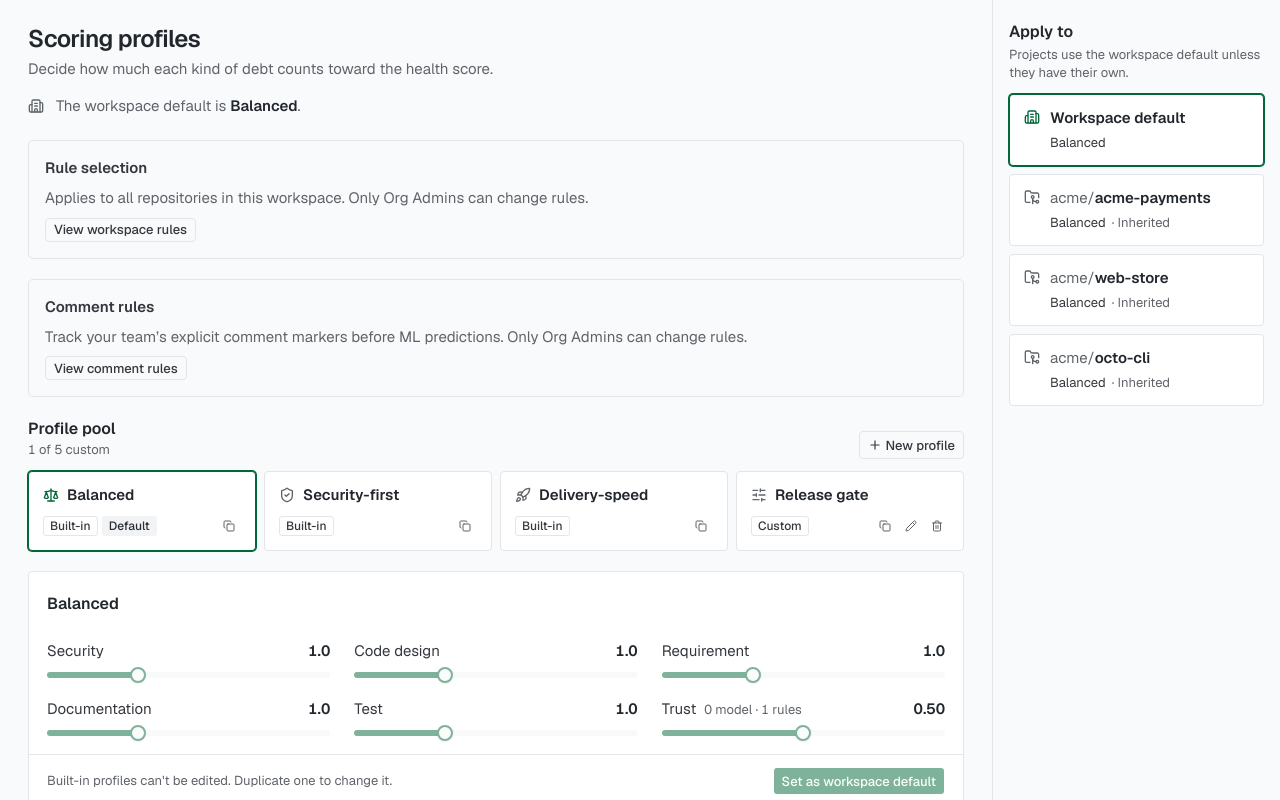
Test: Save sends only what changed, and Discard puts the stored values back
Click the button "Release gate" at (850, 495), box [751, 484, 949, 506]
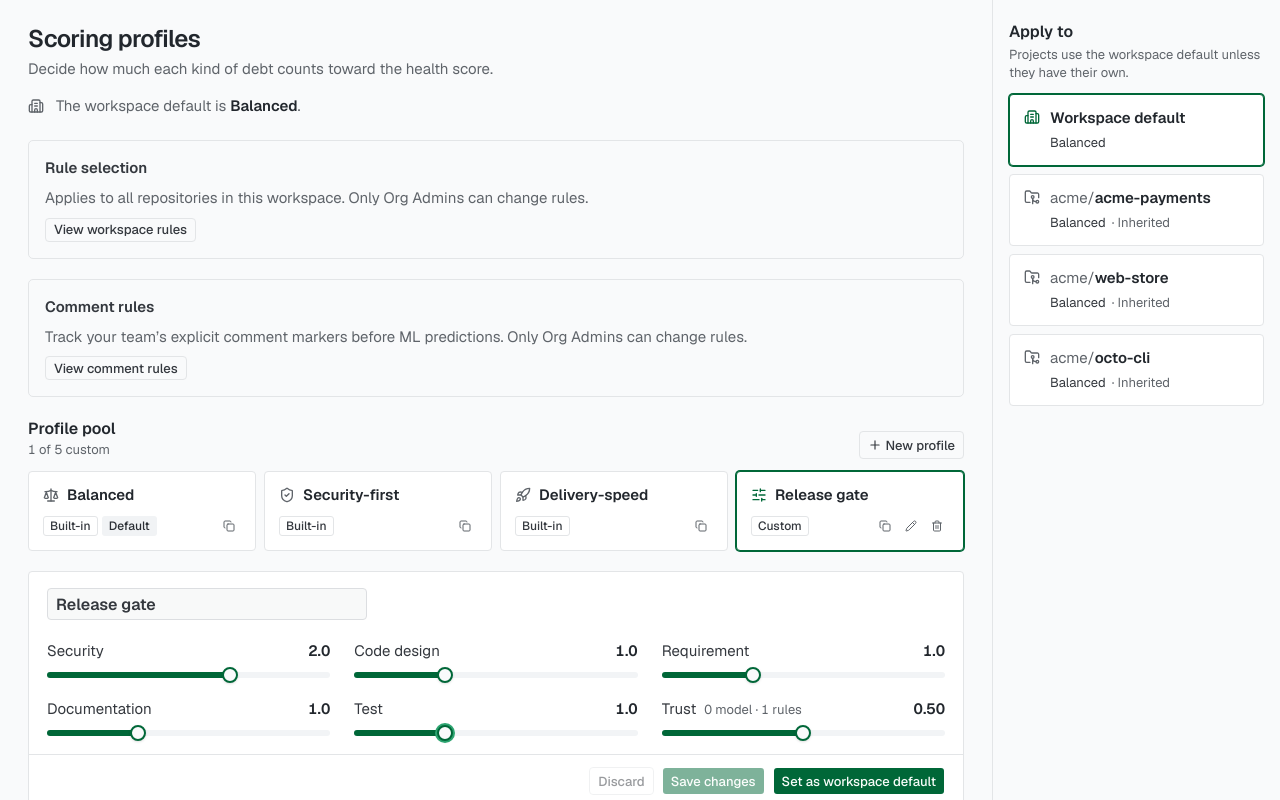
Press Arrowright
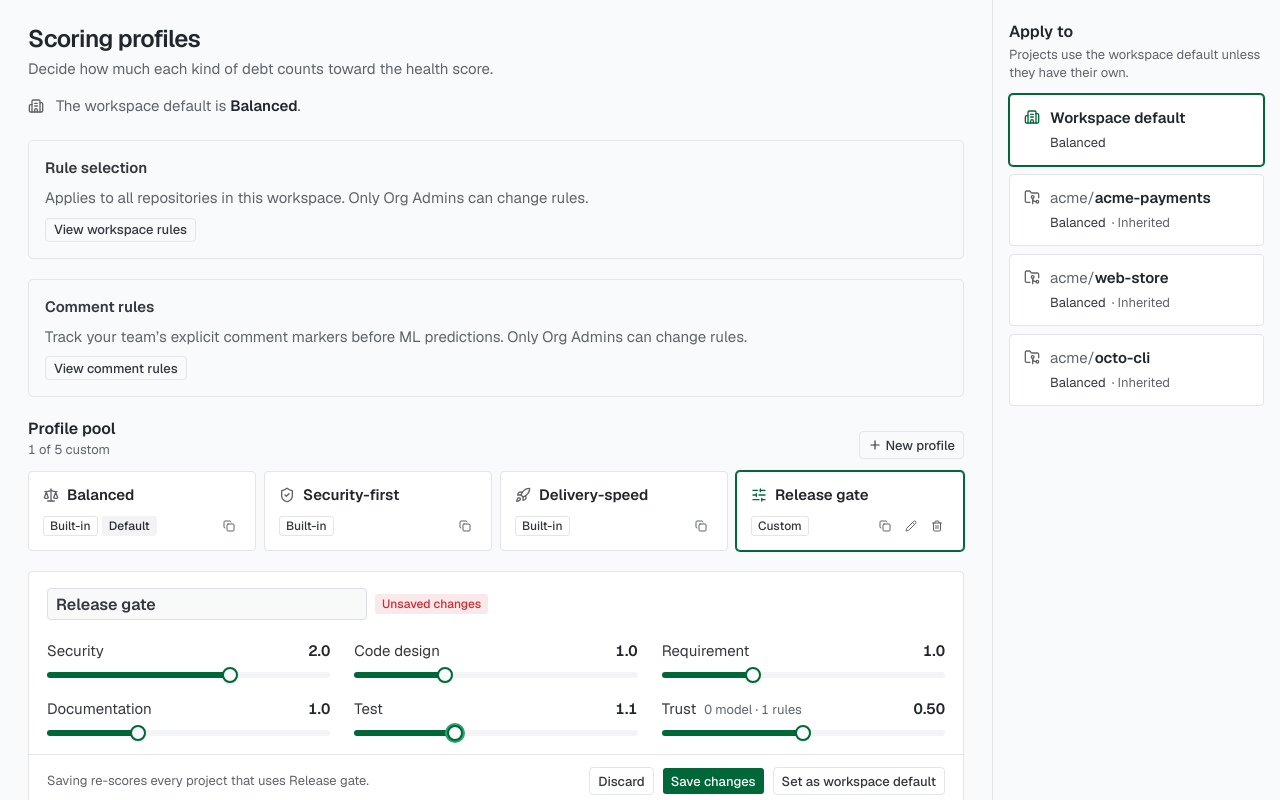
Click the button "Save changes" at (713, 781), box [662, 767, 764, 795]
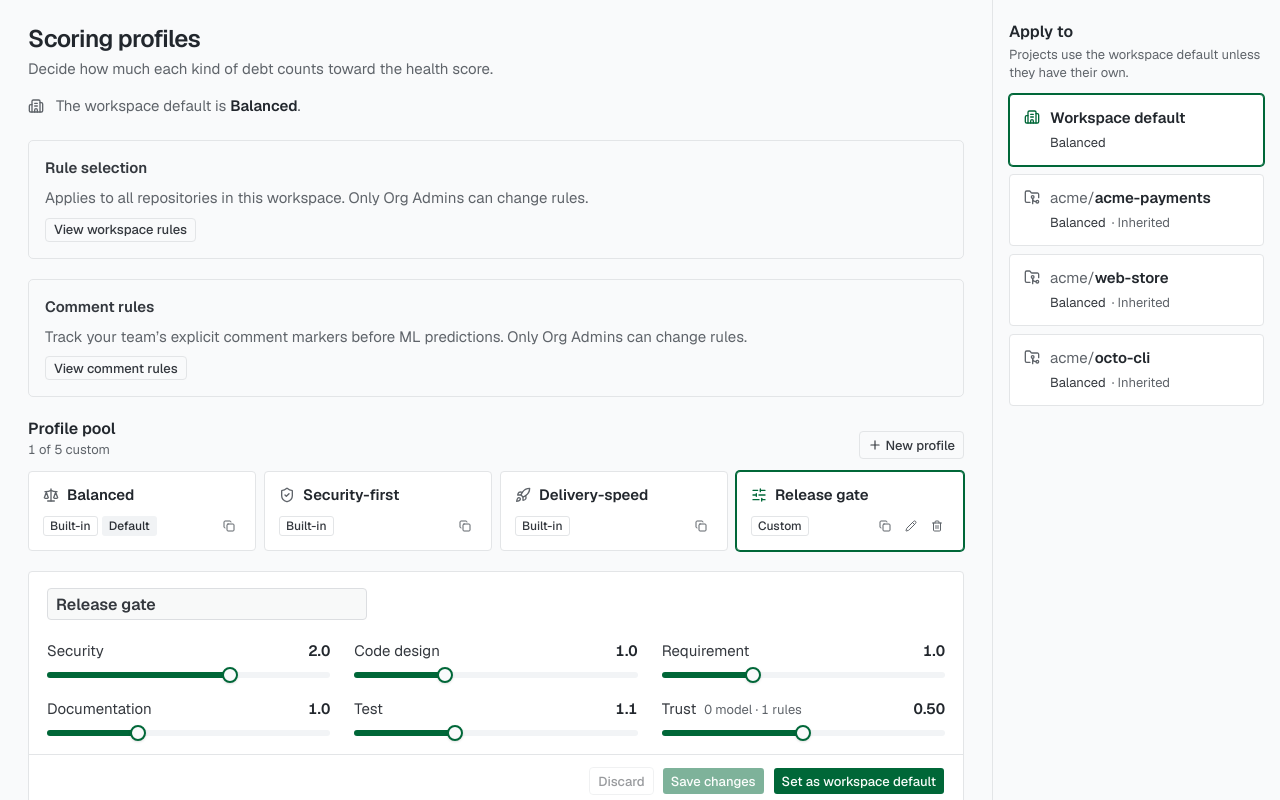
Check: the text with test id "unsaved-badge" is gone
